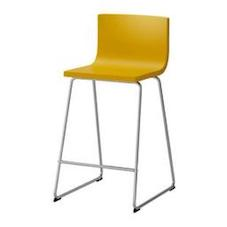chair: (12, 9, 206, 218)
